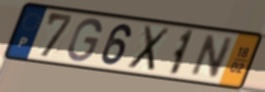1: (169, 28, 197, 79)
6: (99, 22, 134, 67)
7: (39, 11, 76, 60)
G: (65, 17, 104, 64)
N: (187, 33, 237, 80)
X: (125, 23, 173, 73)
